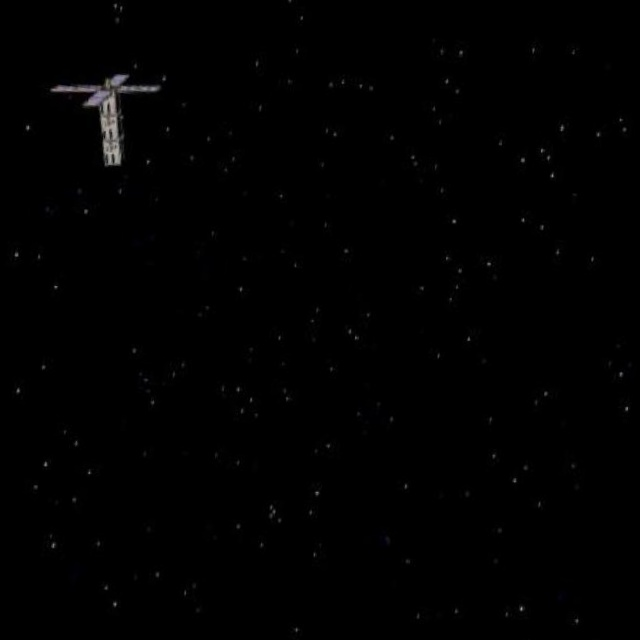medium_debris: (41, 51, 178, 178)
